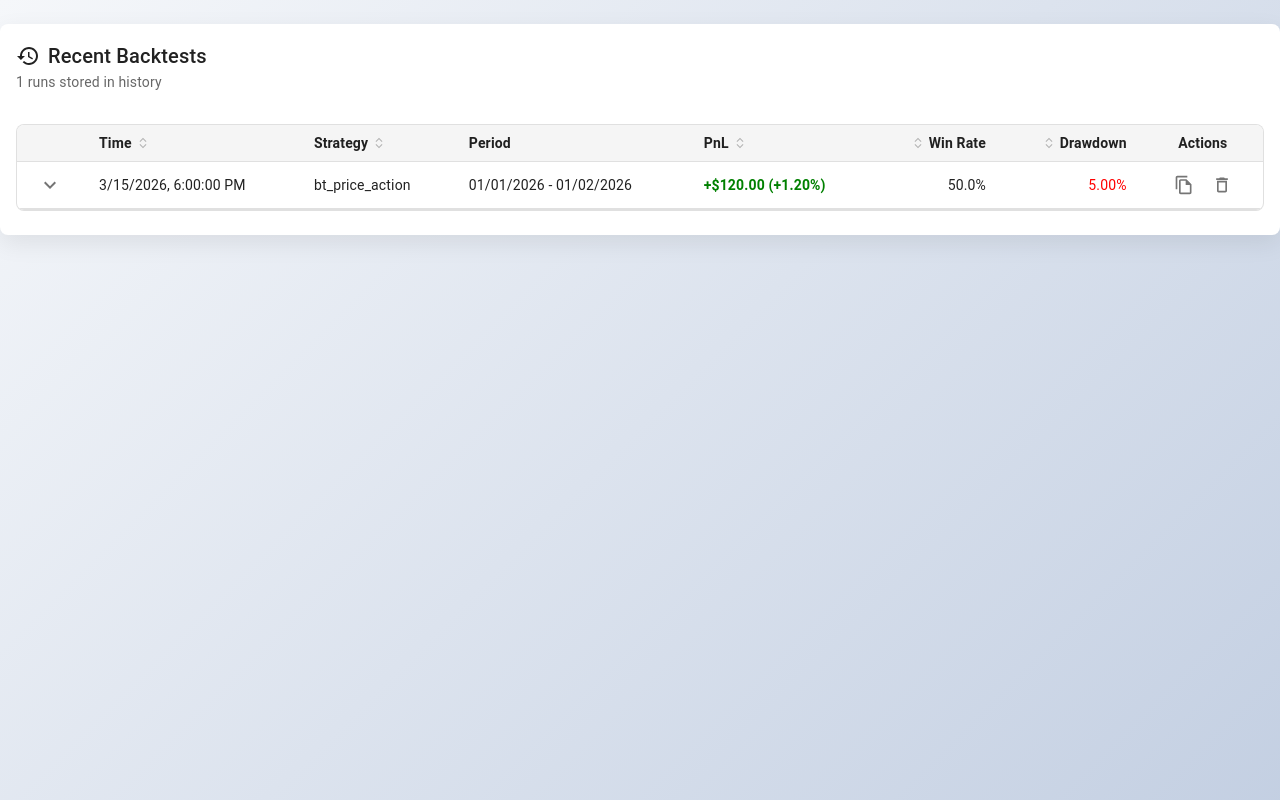
BacktestHistoryList › does not duplicate trailing stop and breakeven fields across detail sections
Click the text "bt_price_action".
click(362, 185)  # box [314,175,411,195]
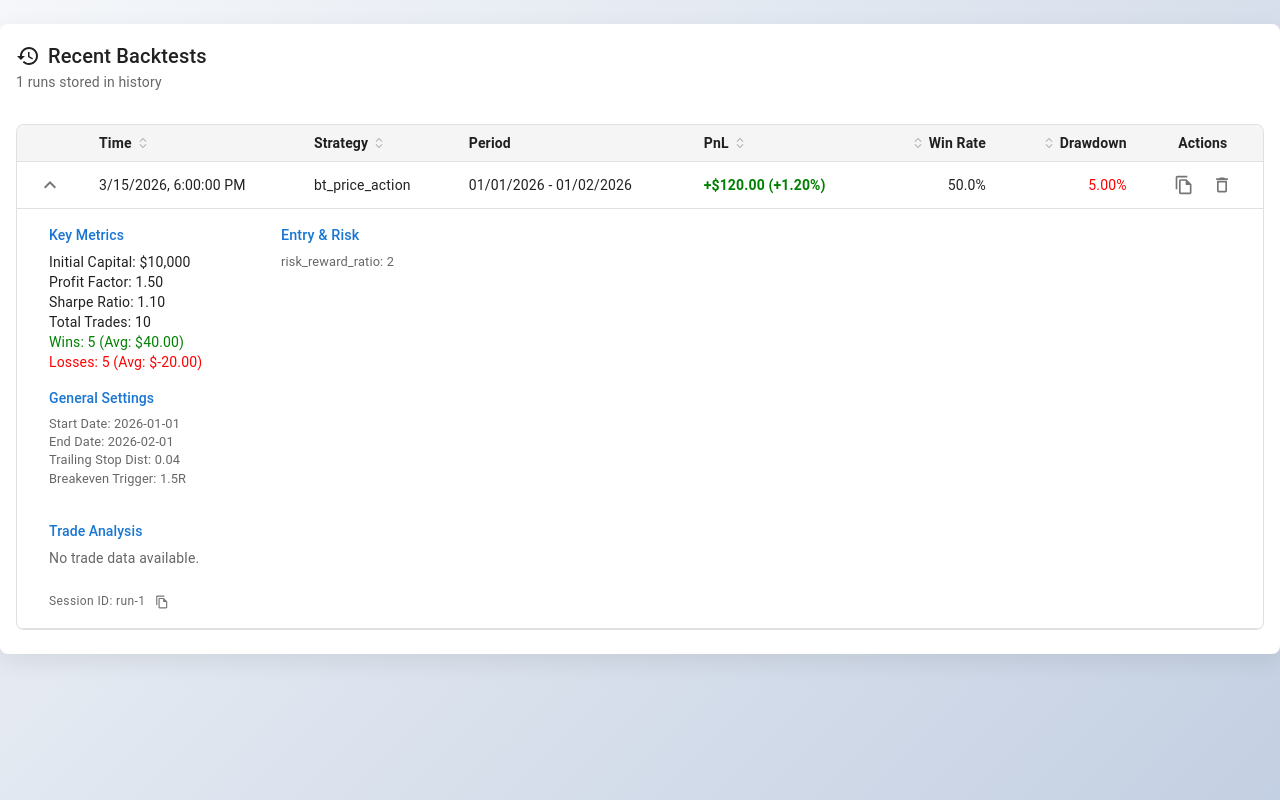
expect the text "Trailing Stop Dist: 0.04" is shown once: met, box [49,452,180,467]
expect the text "Breakeven Trigger: 1.5R" is shown once: met, box [49,471,186,486]
